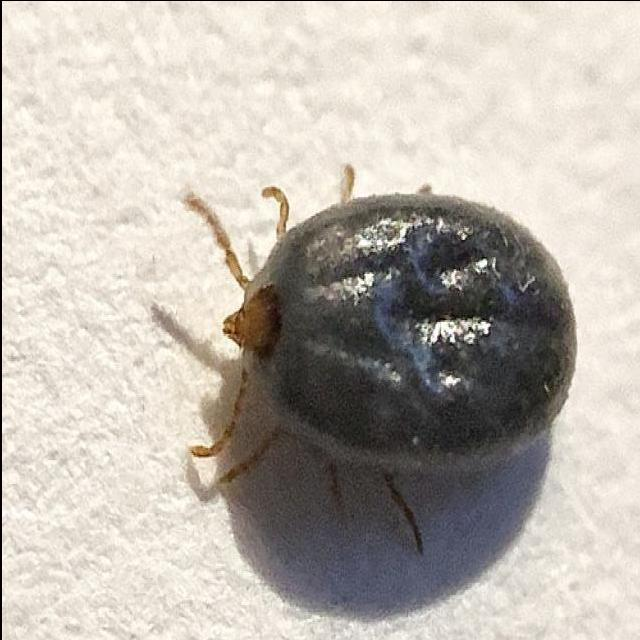Rhipicephalus Sanguineus-F-Fed: (182, 162, 582, 551)
